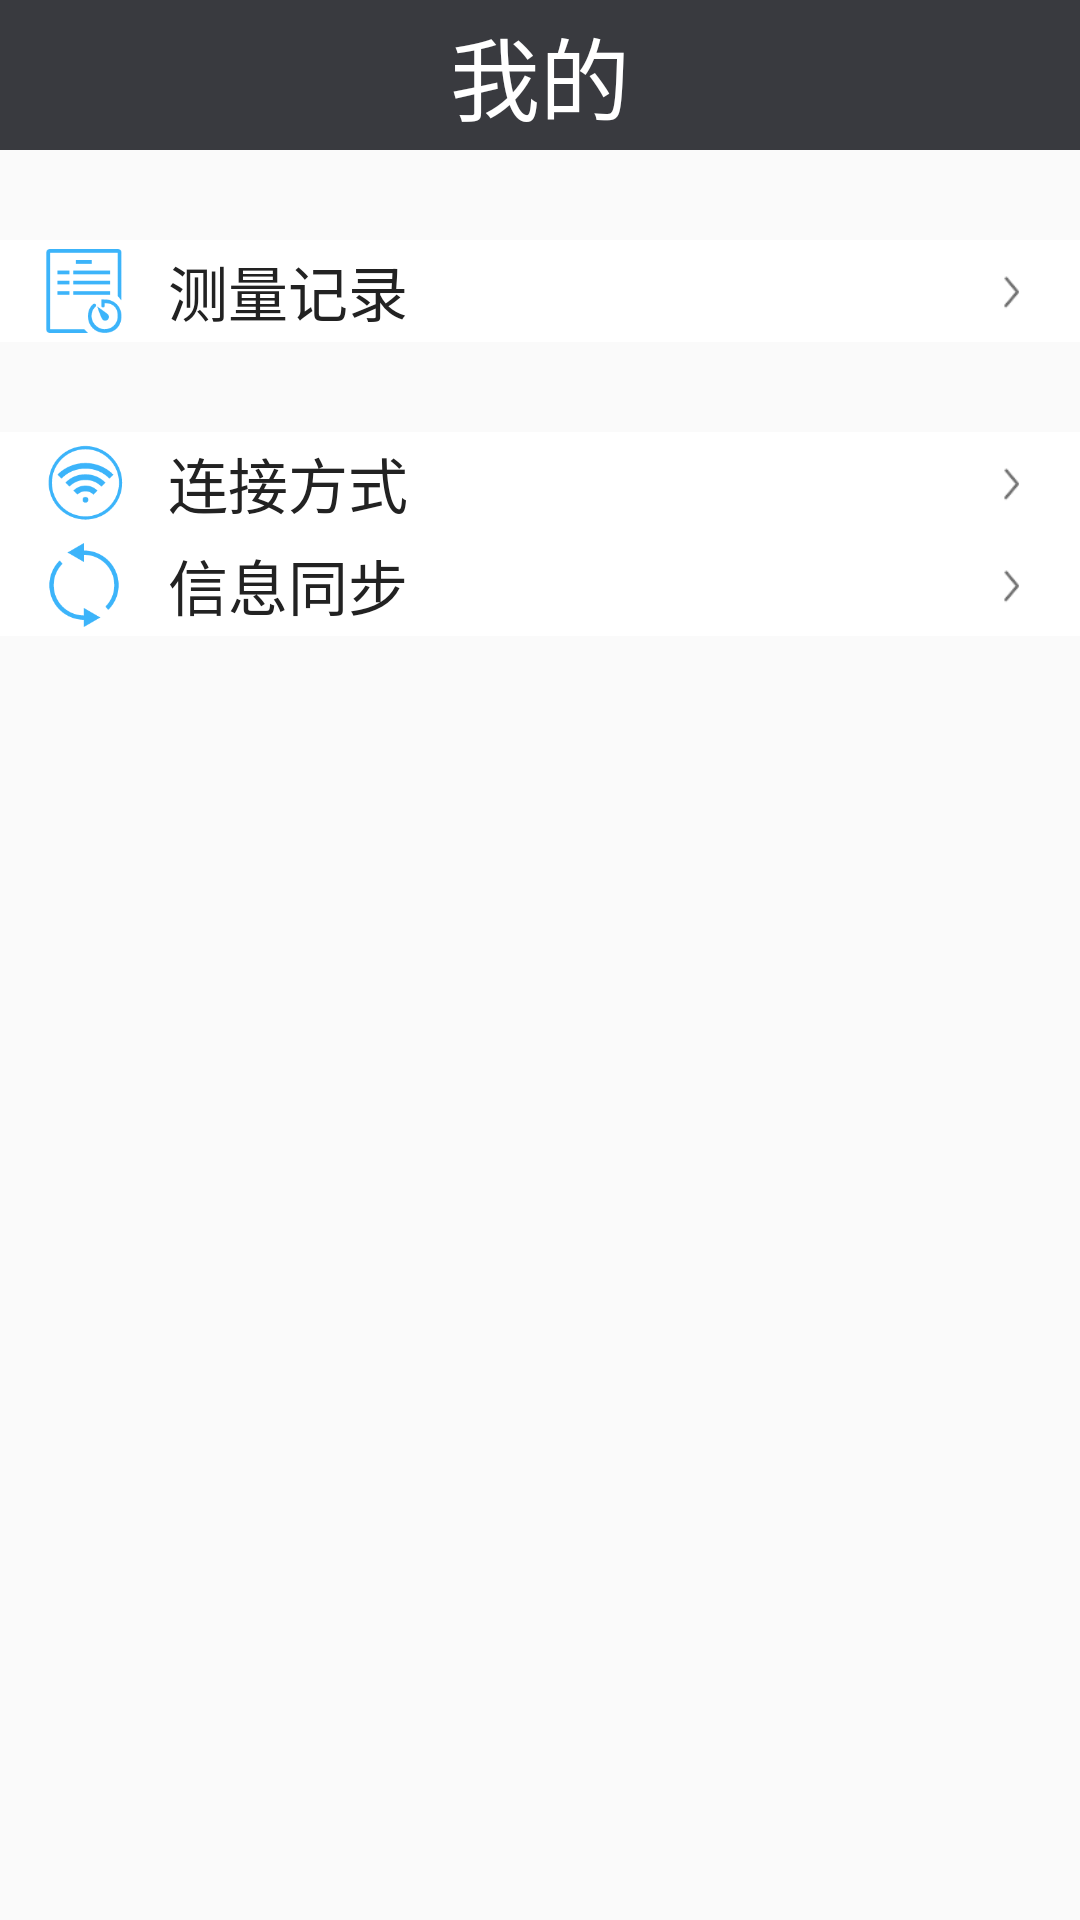

Where icons sit on this 1080 × 1920 app screen, as [left=x1, top=y1, right=x2, bottom=y2]:
mine connect: [left=48, top=446, right=123, bottom=520]
mine record: [left=46, top=249, right=122, bottom=333]
mine sync: [left=49, top=543, right=119, bottom=627]
